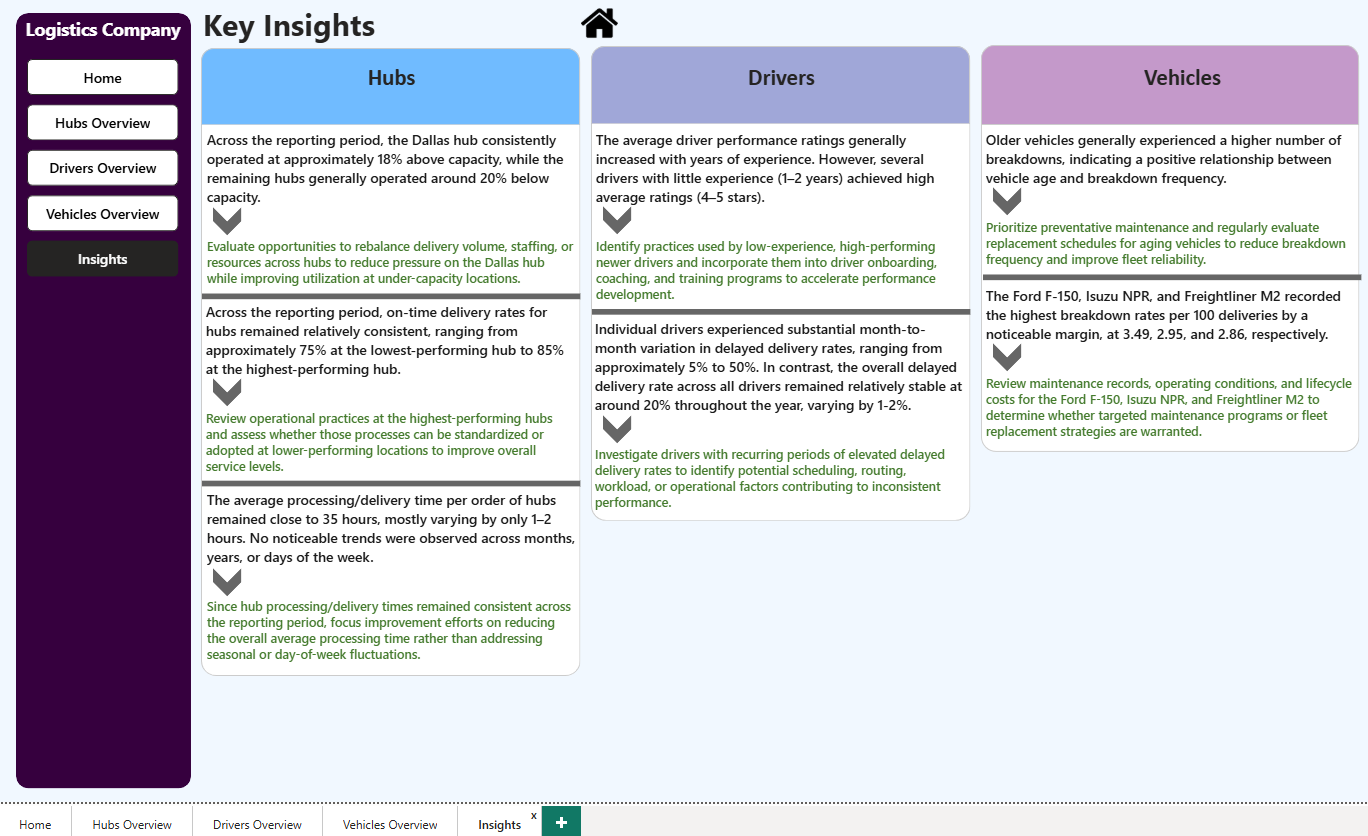

This screenshot's page, from the dashboard's own definition file:
{"tool":"powerbi","page":{"name":"Insights ","canvas":[1450,850],"ordinal":4},"visuals":[{"type":"shape","box":[625,51.2,401.2,502],"z":0},{"type":"shape","box":[16.5,15.4,185.1,819.8],"z":1000},{"type":"textbox","box":[209.3,0,498,62.8],"z":2000},{"type":"image","box":[613.8,0,38.8,52.5],"z":3000},{"type":"shape","box":[212.5,52.5,401.2,664],"z":4000},{"type":"textbox","box":[1146.2,361.2,161.7,56],"z":5000},{"type":"pageNavigator","box":[28.8,65,160,231.2],"z":6000},{"type":"shape","box":[1037.5,52.5,400,427],"z":7000},{"type":"shape","box":[1037.1,49.7,399.6,84.6],"z":8000},{"type":"shape","box":[212.5,52.9,400.7,81.4],"z":9000},{"type":"textbox","box":[332.5,65,161.7,56],"z":10000},{"type":"shape","box":[624.8,50.7,400.7,82.5],"z":11000},{"type":"textbox","box":[745,65,161.7,56],"z":12000},{"type":"textbox","box":[1168.8,65,161.7,56],"z":13000},{"type":"textbox","box":[213.8,133.8,400,182.5],"z":14000},{"type":"textbox","box":[212.5,316.2,401.2,192],"z":15000},{"type":"textbox","box":[213.8,515,400,193.8],"z":16000},{"type":"textbox","box":[625,133.8,401.2,193.8],"z":17000},{"type":"textbox","box":[623.8,333.8,401.2,212.5],"z":18000},{"type":"textbox","box":[1037.5,133.8,401.2,162.5],"z":19000},{"type":"textbox","box":[1037.5,299,401.2,182.5],"z":20000},{"type":"shape","box":[225,221.2,30,30],"z":21000},{"type":"shape","box":[213.8,227.5,400,176.2],"z":22000},{"type":"shape","box":[213.8,451,400,123.8],"z":23000},{"type":"shape","box":[225,402,30,30],"z":24000},{"type":"shape","box":[626.2,264,400,135],"z":25000},{"type":"shape","box":[225,603,30,30],"z":26000},{"type":"shape","box":[1038.8,204,400,182.5],"z":27000},{"type":"shape","box":[638,220,30,30],"z":28000},{"type":"shape","box":[638,441,30,30],"z":29000},{"type":"shape","box":[1050,200,30,30],"z":30000},{"type":"shape","box":[1050,365,30,30],"z":31000},{"type":"textbox","box":[20,15,177.5,35],"z":32000}]}

Visuals, with their boxes on the page's 1450x850 design canvas (x1, y1, x2, y2). These are canvas units, not pixel positions in the 1368x836 screenshot, which may show the page scaled, cropped or inside an application window:
shape: pyautogui.locateOnScreen(625, 51, 1026, 553)
shape: pyautogui.locateOnScreen(16, 15, 202, 835)
textbox: pyautogui.locateOnScreen(209, 0, 707, 63)
image: pyautogui.locateOnScreen(614, 0, 653, 52)
shape: pyautogui.locateOnScreen(212, 52, 614, 716)
textbox: pyautogui.locateOnScreen(1146, 361, 1308, 417)
pageNavigator: pyautogui.locateOnScreen(29, 65, 189, 296)
shape: pyautogui.locateOnScreen(1038, 52, 1438, 480)
shape: pyautogui.locateOnScreen(1037, 50, 1437, 134)
shape: pyautogui.locateOnScreen(212, 53, 613, 134)
textbox: pyautogui.locateOnScreen(332, 65, 494, 121)
shape: pyautogui.locateOnScreen(625, 51, 1026, 133)
textbox: pyautogui.locateOnScreen(745, 65, 907, 121)
textbox: pyautogui.locateOnScreen(1169, 65, 1330, 121)
textbox: pyautogui.locateOnScreen(214, 134, 614, 316)
textbox: pyautogui.locateOnScreen(212, 316, 614, 508)
textbox: pyautogui.locateOnScreen(214, 515, 614, 709)
textbox: pyautogui.locateOnScreen(625, 134, 1026, 328)
textbox: pyautogui.locateOnScreen(624, 334, 1025, 546)
textbox: pyautogui.locateOnScreen(1038, 134, 1439, 296)
textbox: pyautogui.locateOnScreen(1038, 299, 1439, 482)
shape: pyautogui.locateOnScreen(225, 221, 255, 251)
shape: pyautogui.locateOnScreen(214, 228, 614, 404)
shape: pyautogui.locateOnScreen(214, 451, 614, 575)
shape: pyautogui.locateOnScreen(225, 402, 255, 432)
shape: pyautogui.locateOnScreen(626, 264, 1026, 399)
shape: pyautogui.locateOnScreen(225, 603, 255, 633)
shape: pyautogui.locateOnScreen(1039, 204, 1439, 386)
shape: pyautogui.locateOnScreen(638, 220, 668, 250)
shape: pyautogui.locateOnScreen(638, 441, 668, 471)
shape: pyautogui.locateOnScreen(1050, 200, 1080, 230)
shape: pyautogui.locateOnScreen(1050, 365, 1080, 395)
textbox: pyautogui.locateOnScreen(20, 15, 198, 50)
